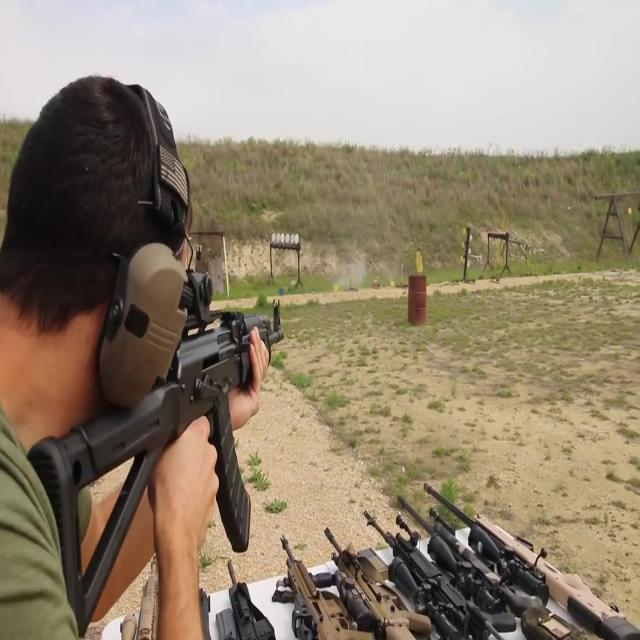Weapon: (138, 377, 640, 640), (7, 267, 306, 589)
